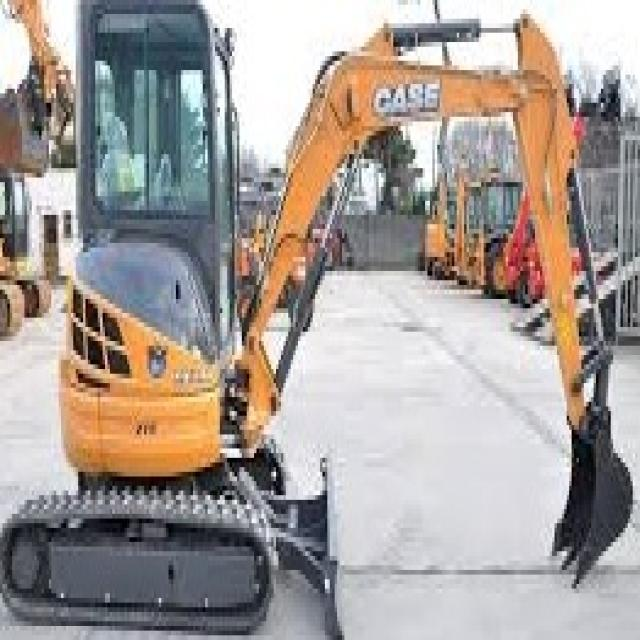excavator: (59, 119, 357, 632)
